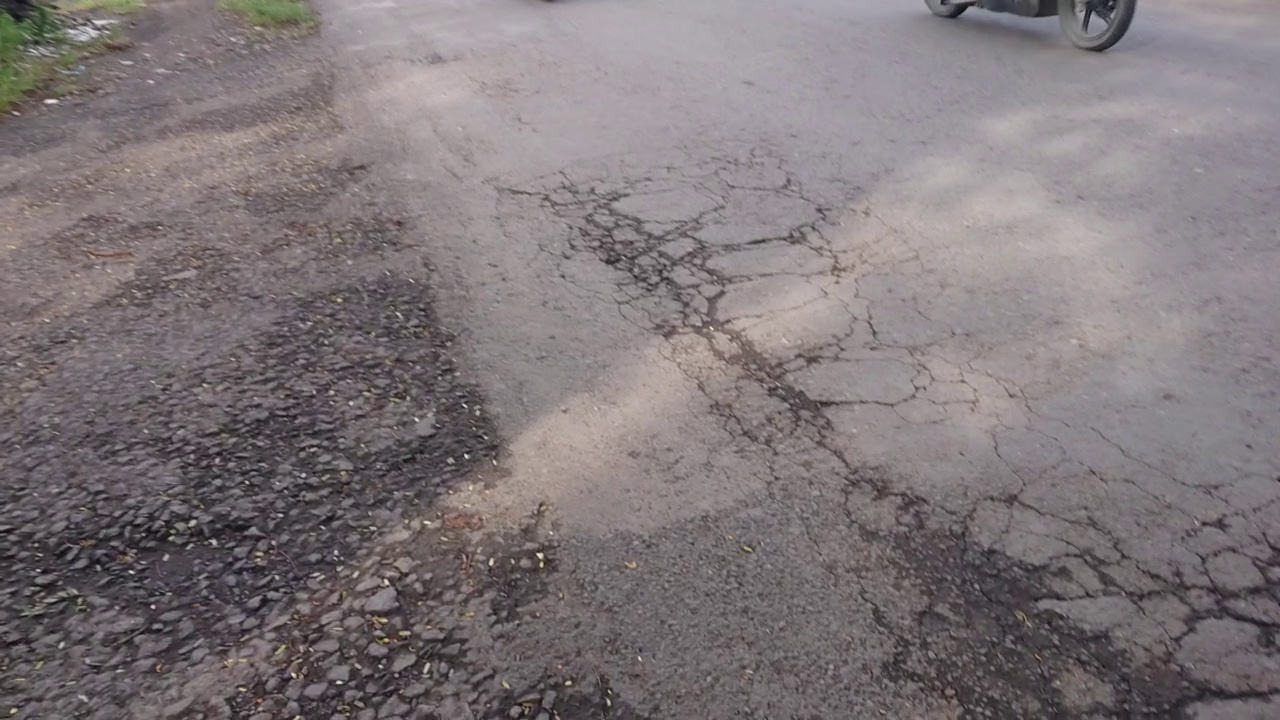Retak: (839, 476, 1280, 720), (579, 194, 871, 464)
